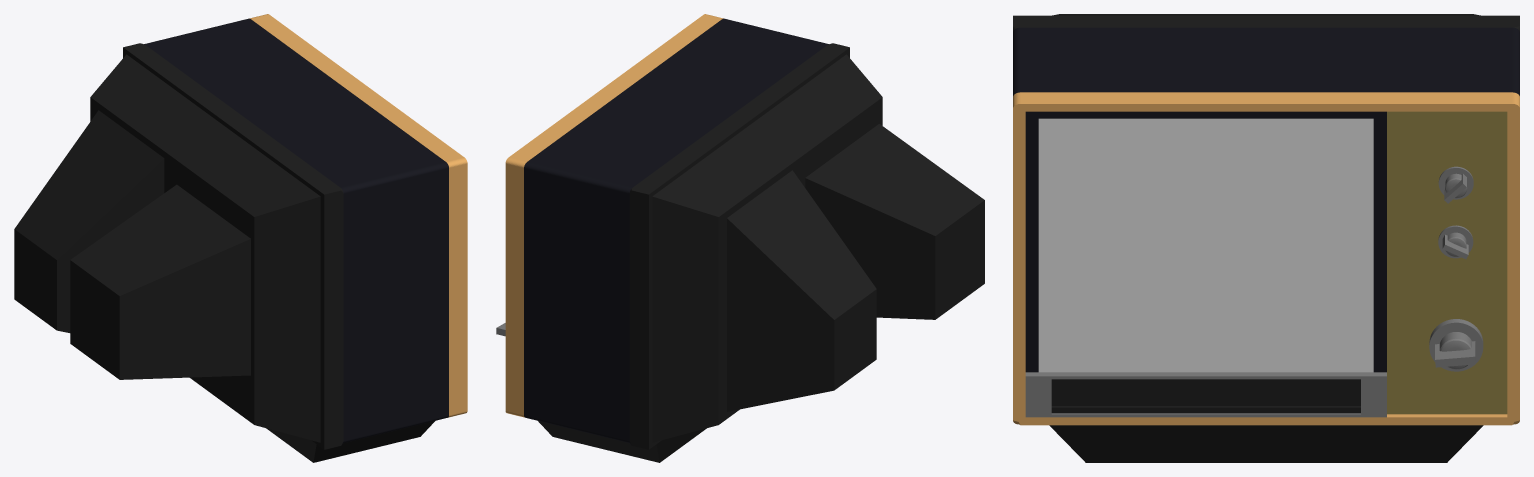
The picture shows the model from 3 angles, left to right: view 1: azimuth 30°, elevation 25°; view 2: azimuth 150°, elevation 25°; view 3: azimuth 270°, elevation 25°; orthographic projection. The views are drawn at different scales.
Parts seen in each view (by area): view 1: Cube.002; view 2: Cube.002; view 3: Cube.002.
Boxes of the visible parts, left/top/right/bottom form: Cube.002: left=14, top=14, right=467, bottom=462; Cube.002: left=496, top=14, right=984, bottom=462; Cube.002: left=1013, top=14, right=1519, bottom=462.
Bounding box in the file's own units: 1.22 × 1.01 × 1.25.
